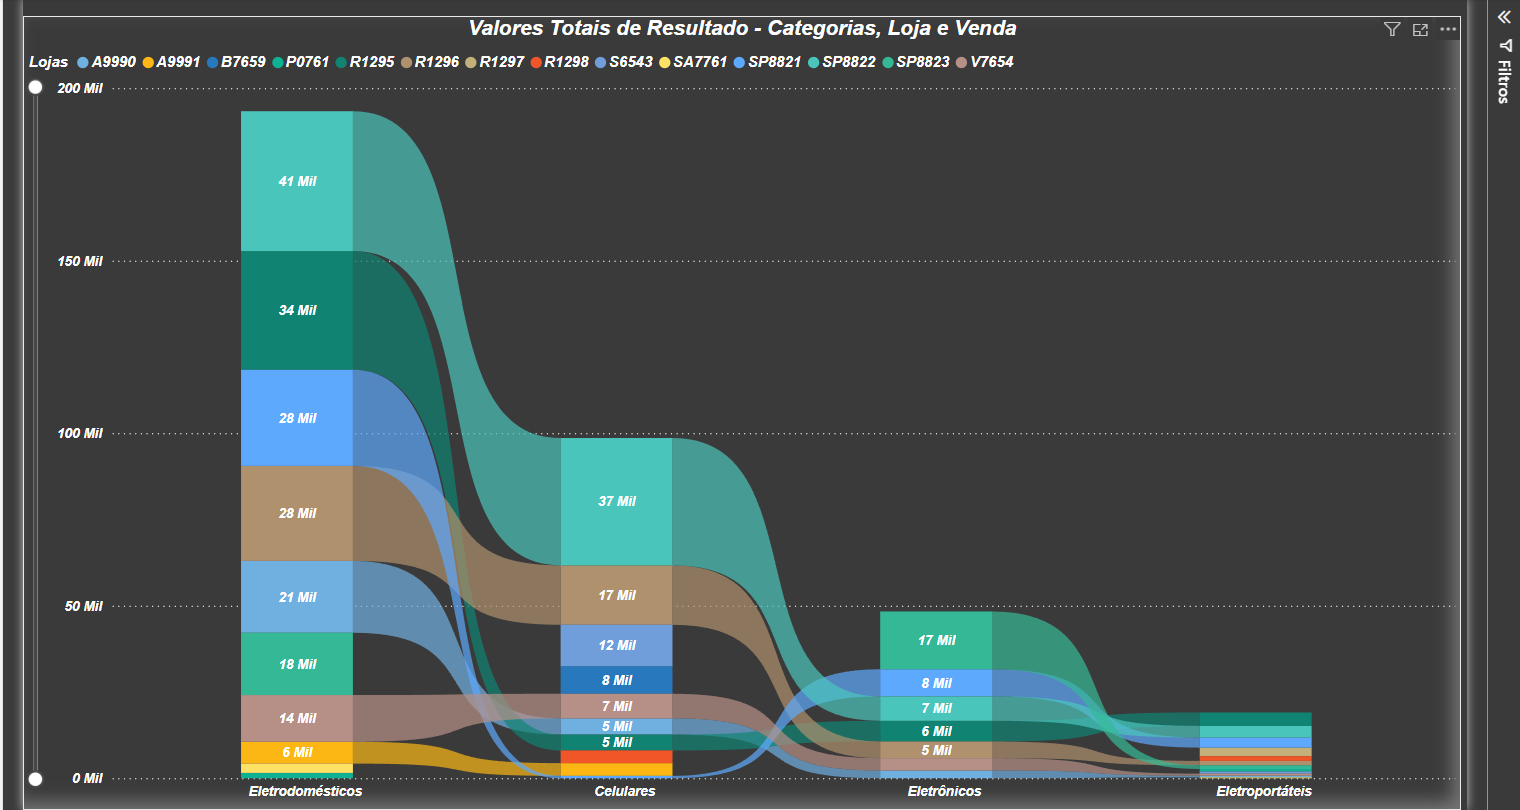

This screenshot's page, from the dashboard's own definition file:
{"tool":"powerbi","page":{"name":"Valores Totais/Categoria/Loja","canvas":[1280,720],"ordinal":3},"visuals":[{"type":"ribbonChart","title":"Valores Totais de Resultado - Categorias, Loja e Venda","fields":{"Category":["Vendas.Categoria"],"Y":["Sum(Vendas.ValorVenda)"],"Series":["Vendas.Loja"]},"box":[0,15.6,1275.1,704.2],"z":0}]}

Visuals, with their boxes on the page's 1280x720 design canvas (x1, y1, x2, y2). These are canvas units, not pixel positions in the 1520x810 screenshot, which may show the page scaled, cropped or inside an application window:
"Valores Totais de Resultado - Categorias, Loja e Venda" ribbonChart: {"x1": 0, "y1": 16, "x2": 1275, "y2": 720}
